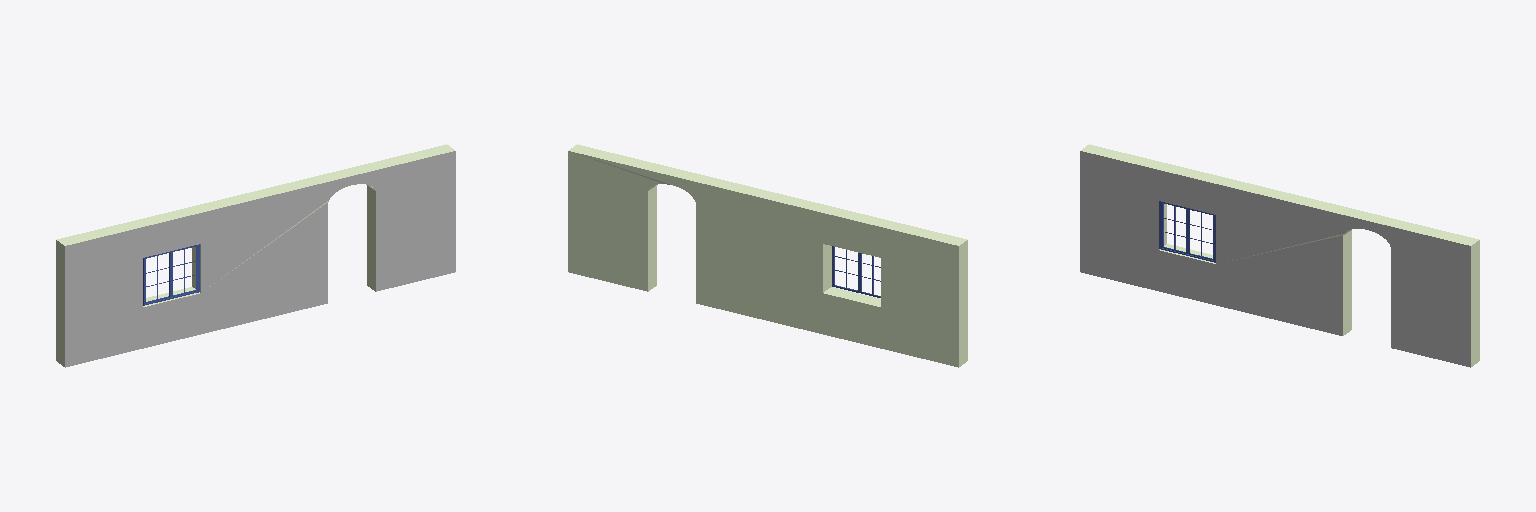
3 renders of one model, left to right at view 1: azimuth 30°, elevation 25°; view 2: azimuth 150°, elevation 25°; view 3: azimuth 330°, elevation 25°, orthographic.
Visible parts, largest first — view 1: pasted__polySurface465 group5; view 2: pasted__polySurface465 group5; view 3: pasted__polySurface465 group5.
Boxes of the visible parts, <box> form: pasted__polySurface465 group5: <box>56,144,455,367</box>; pasted__polySurface465 group5: <box>568,144,967,367</box>; pasted__polySurface465 group5: <box>1080,144,1479,367</box>.
Size of the model in its own units: 22.33 by 6.64 by 0.8689.
Materials: 4 (3 with a texture image).